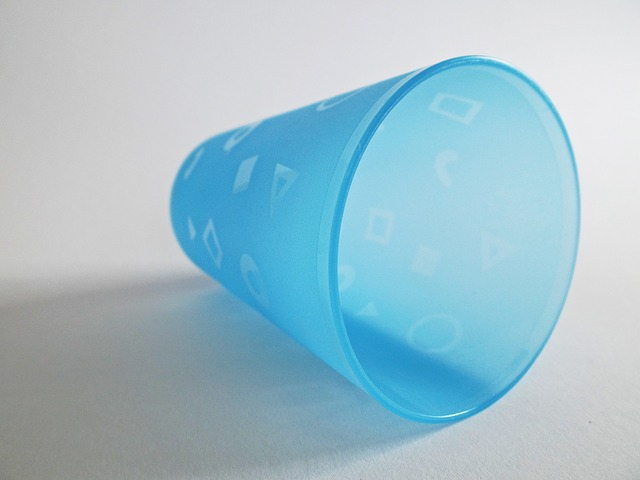cup: (160, 43, 594, 441)
